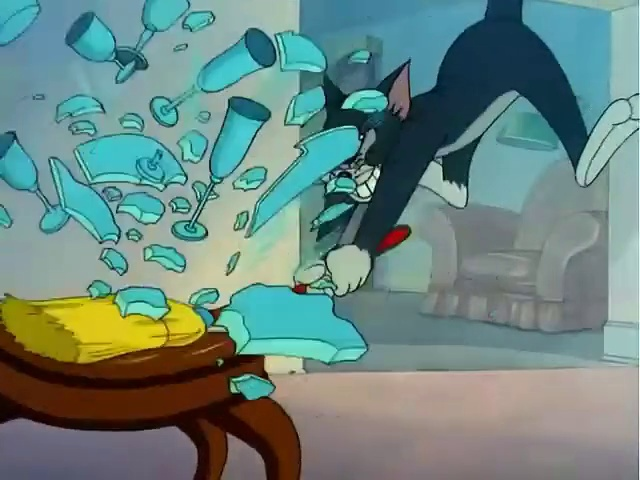tom: (283, 49, 627, 302)
